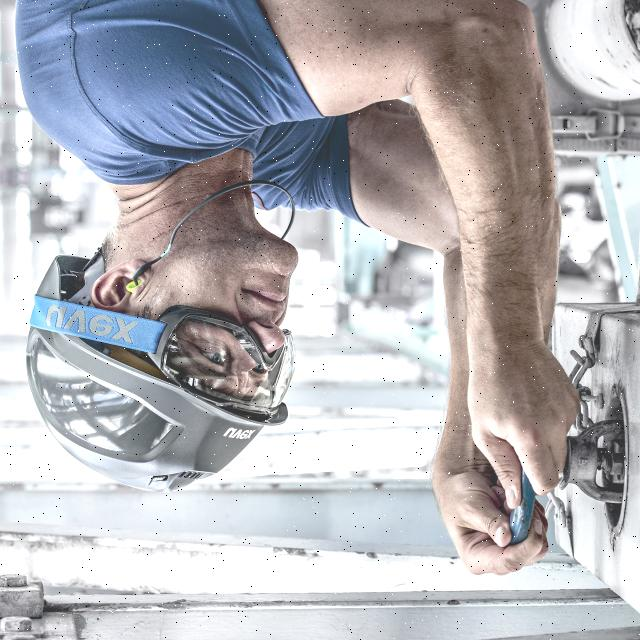Glass: (142, 302, 304, 414)
Helmet: (24, 244, 288, 496)
